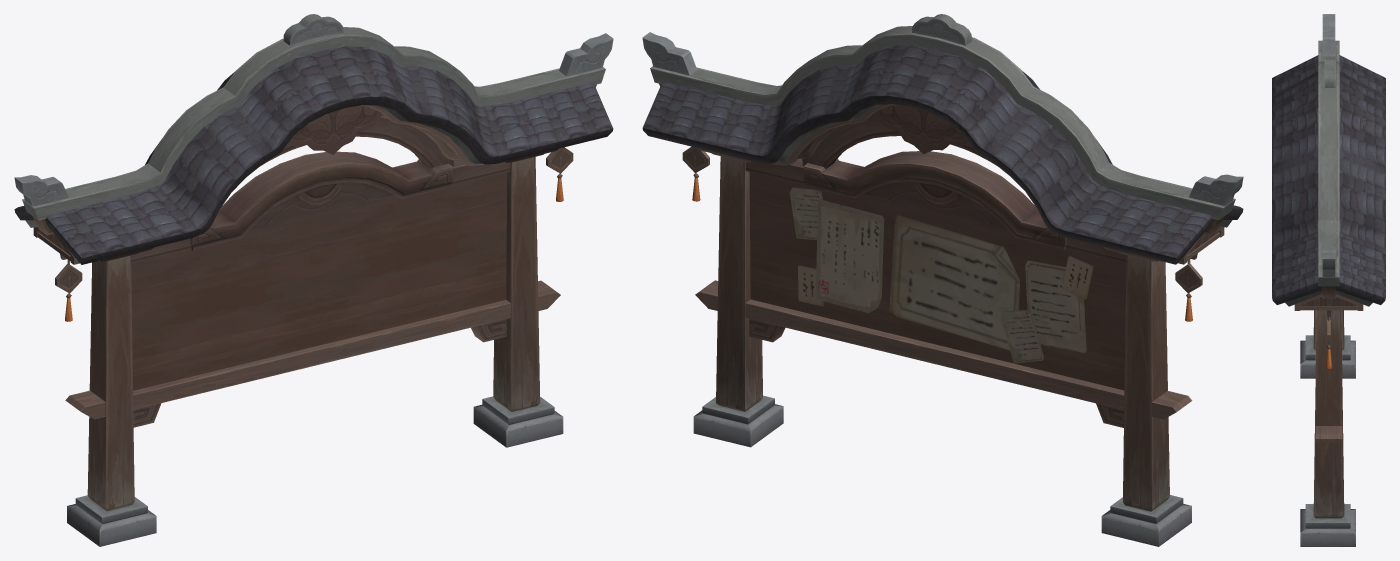
The model's file is Homeworld_Exterior_Cyg_Decoration_Prop_YlbGaoshipai_01_Lod0.fbx.
3 views of the same model, side by side, from view 1: azimuth 30°, elevation 25°; view 2: azimuth 150°, elevation 25°; view 3: azimuth 270°, elevation 25° (orthographic). The views are drawn at different scales.
Parts seen in each view (by area): view 1: Area_Cyg_Prop_YLB_Gaoshipai_01_Lod0; view 2: Area_Cyg_Prop_YLB_Gaoshipai_01_Lod0; view 3: Area_Cyg_Prop_YLB_Gaoshipai_01_Lod0.
Part boxes in pixels (x1,y1,x2,y2): Area_Cyg_Prop_YLB_Gaoshipai_01_Lod0: (14,14,613,546); Area_Cyg_Prop_YLB_Gaoshipai_01_Lod0: (642,14,1243,546); Area_Cyg_Prop_YLB_Gaoshipai_01_Lod0: (1272,14,1385,546).
Size of the model in its own units: 4.56 by 3.39 by 0.8941.
